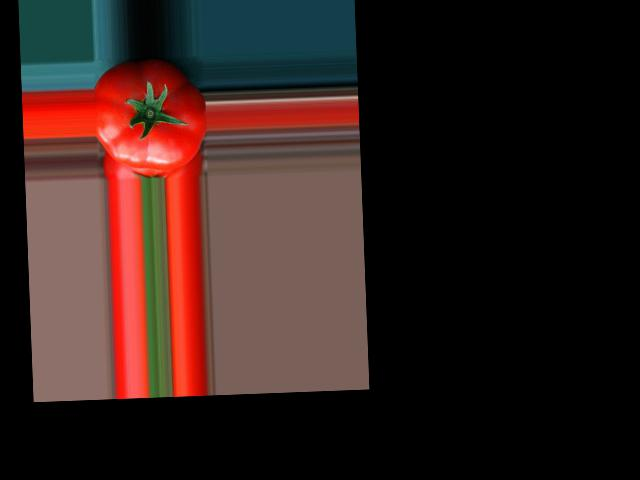tomato: (93, 57, 209, 173)
